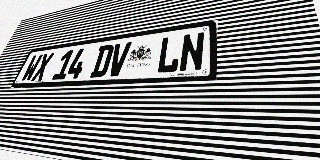1: (52, 49, 76, 80)
4: (65, 48, 90, 79)
D: (89, 44, 115, 78)
L: (155, 35, 182, 74)
N: (178, 31, 205, 72)
V: (106, 42, 132, 77)
W: (20, 54, 43, 82)
X: (31, 52, 55, 81)
